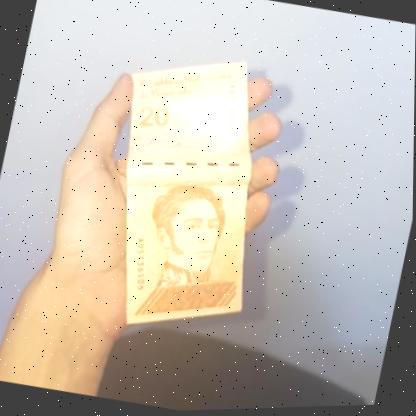twenty-front-vef: (81, 40, 294, 346)
